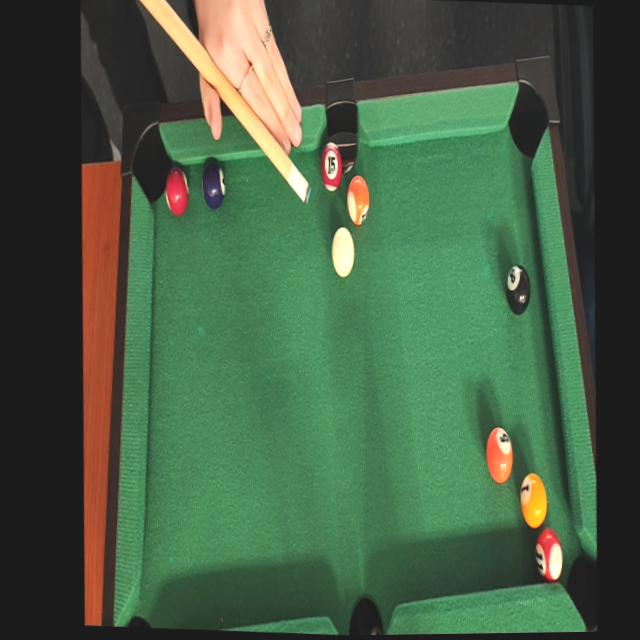cue ball: (325, 222, 360, 278)
other: (478, 418, 518, 490), (530, 522, 566, 591), (514, 467, 551, 528), (158, 158, 193, 220), (501, 258, 538, 316), (198, 152, 231, 210), (342, 172, 376, 228), (315, 143, 344, 200)
